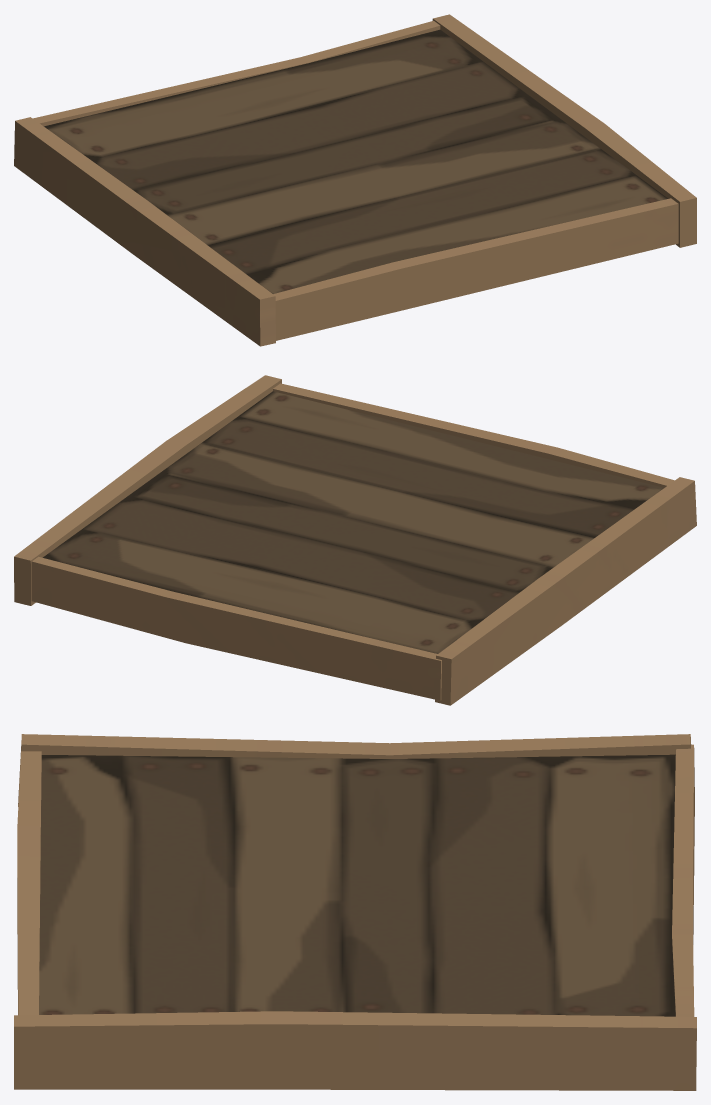
Rendered from SM_Bld_Dock_02.fbx.
3 views of the same model, one above another, from view 1: azimuth 30°, elevation 25°; view 2: azimuth 150°, elevation 25°; view 3: azimuth 270°, elevation 25° (orthographic). The views are drawn at different scales.
Parts seen in each view (by area): view 1: SM_Bld_Dock_02; view 2: SM_Bld_Dock_02; view 3: SM_Bld_Dock_02.
Part boxes in pixels (x1,y1,x2,y2): SM_Bld_Dock_02: (14,14,696,346); SM_Bld_Dock_02: (14,375,696,705); SM_Bld_Dock_02: (14,734,696,1090).
Size of the model in its own units: 263 by 30.5 by 260.
